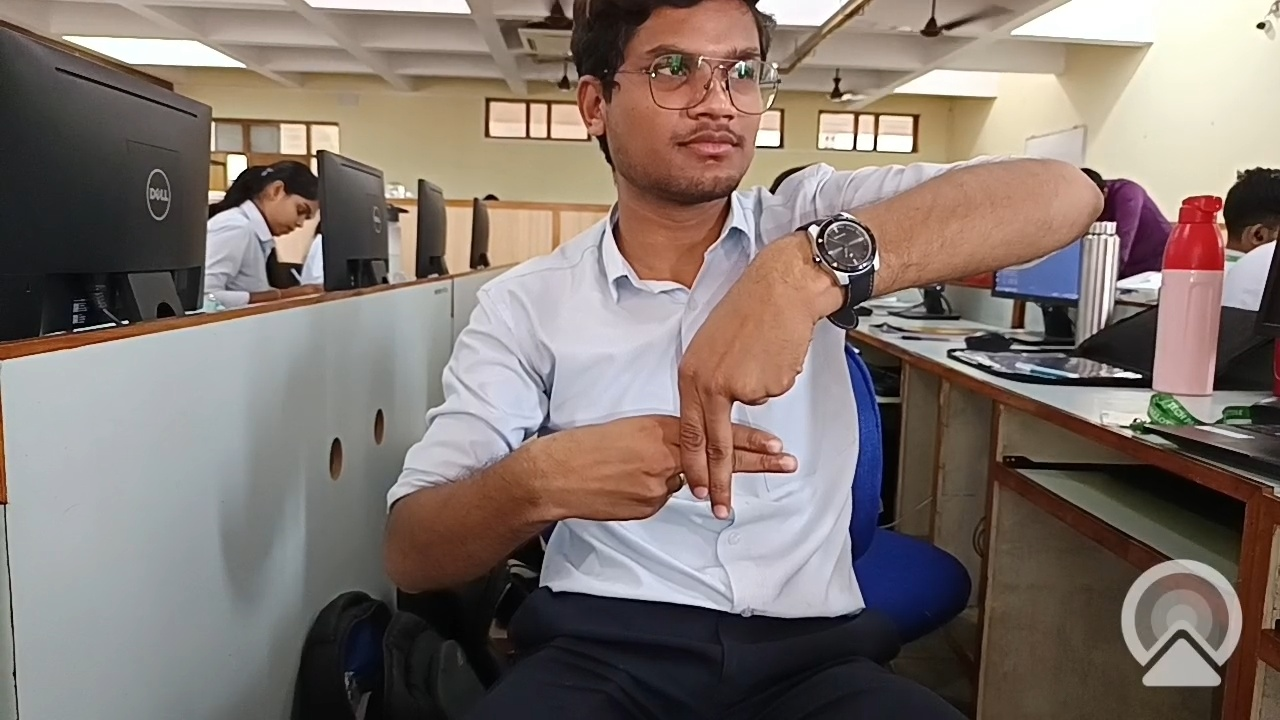F: (559, 268, 894, 584), (560, 266, 857, 547)
